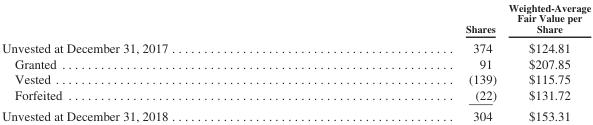table: (1, 1, 590, 122)
table column: (1, 1, 316, 122), (316, 1, 501, 122), (501, 1, 590, 122)
table column header: (1, 1, 590, 37)
table row: (1, 1, 590, 37), (1, 37, 590, 55), (1, 86, 590, 104), (1, 104, 590, 122), (1, 55, 590, 71), (1, 71, 590, 86)
